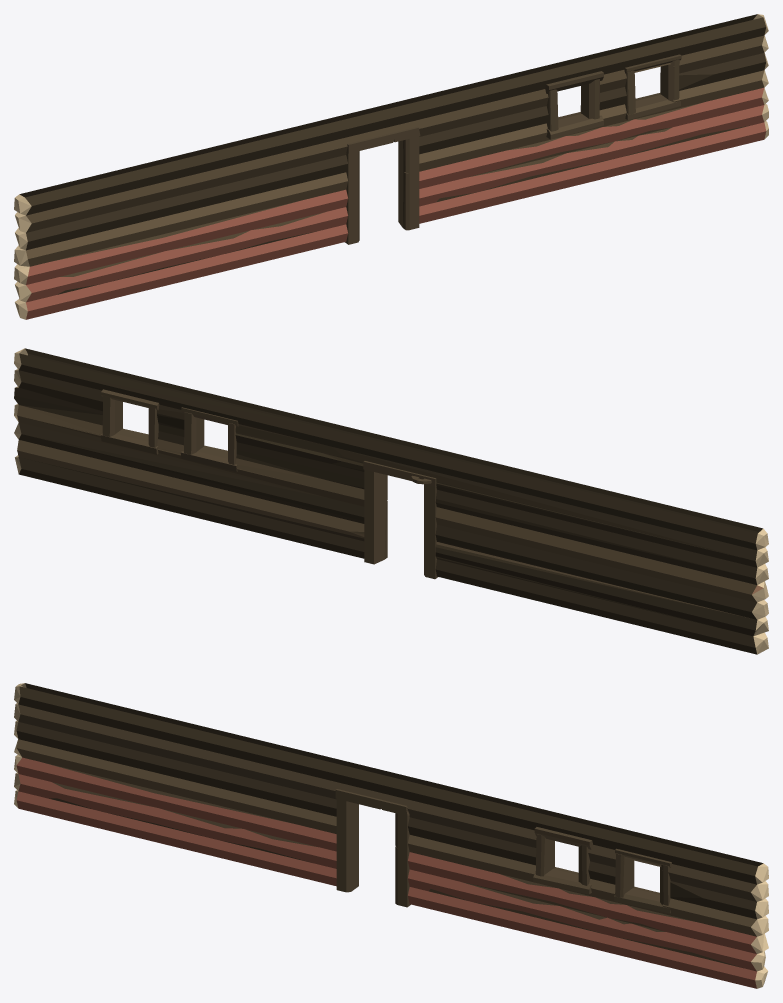
File: EA03_Village_Hut_Wall_Painted_Side_02e.fbx
3 views of the same model, one above another, from view 1: azimuth 30°, elevation 25°; view 2: azimuth 150°, elevation 25°; view 3: azimuth 330°, elevation 25° (orthographic).
Visible parts, largest first — view 1: EA03_Village_Hut_Wall_Painted_Side_02e_LOD0; view 2: EA03_Village_Hut_Wall_Painted_Side_02e_LOD0; view 3: EA03_Village_Hut_Wall_Painted_Side_02e_LOD0.
Boxes of the visible parts, left/top/right/bottom form: EA03_Village_Hut_Wall_Painted_Side_02e_LOD0: left=14, top=14, right=768, bottom=319; EA03_Village_Hut_Wall_Painted_Side_02e_LOD0: left=14, top=348, right=768, bottom=654; EA03_Village_Hut_Wall_Painted_Side_02e_LOD0: left=14, top=683, right=768, bottom=988.
Size of what is drawn, in the model's own units: 19.97 by 3.13 by 0.8453.
